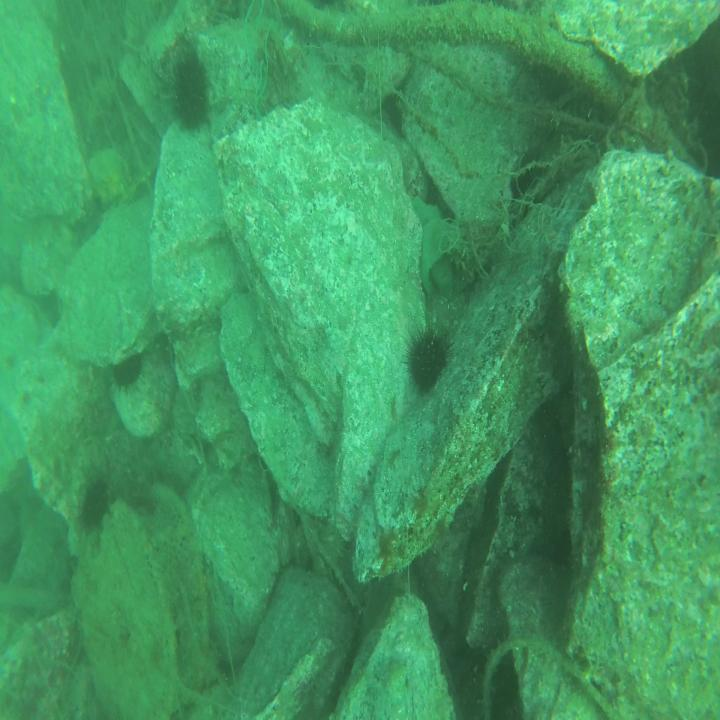echinus: (400, 318, 456, 394), (165, 56, 216, 138), (74, 473, 110, 540), (109, 354, 153, 392)
holothurian: (168, 389, 199, 452)
